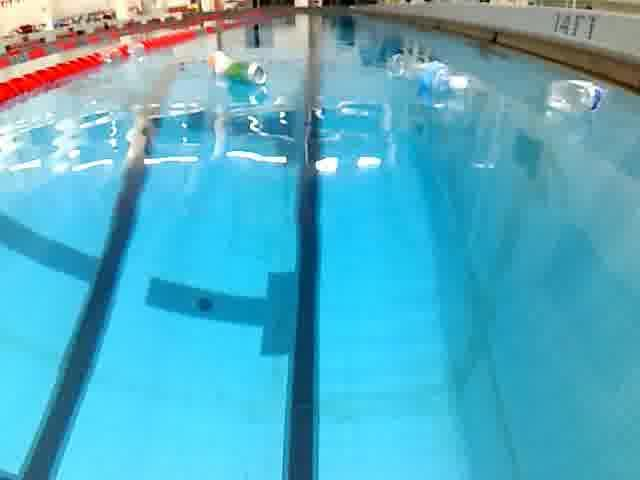Bottle: (384, 47, 472, 98), (538, 73, 612, 119), (204, 48, 230, 70)
Can: (222, 60, 276, 90)
